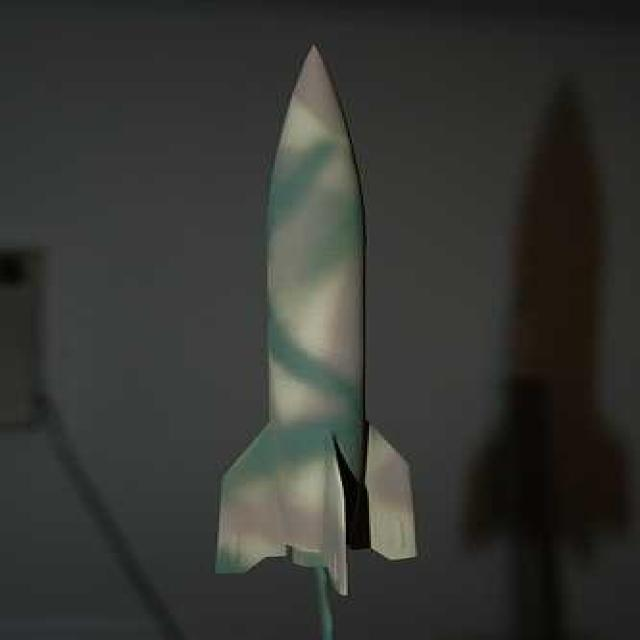missile: (225, 46, 448, 582)
